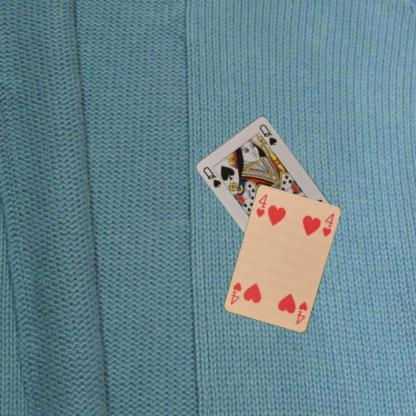4h: (294, 299, 308, 326), (254, 192, 268, 219)
Qs: (201, 164, 223, 189)
